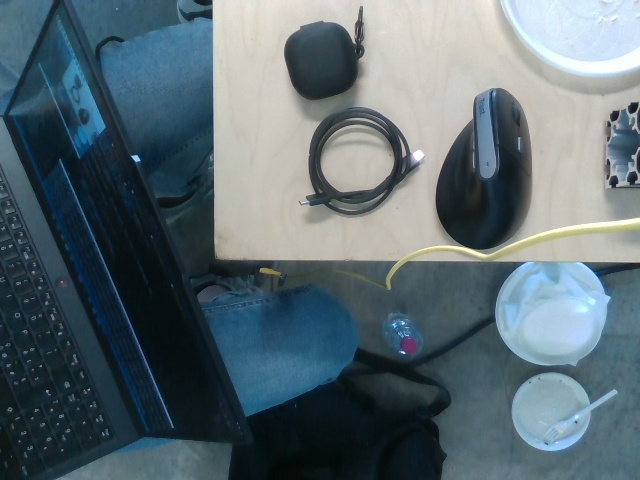cube_hackaton: (282, 15, 362, 101)
